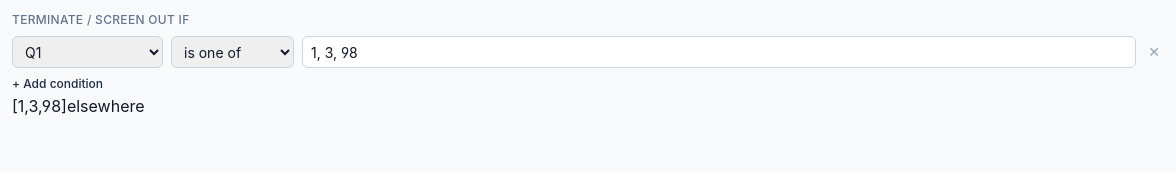
Test: codes box › lets a code be deleted without losing the ones around it
Click the field named "condition values": (719, 52) [302,36,1136,68]
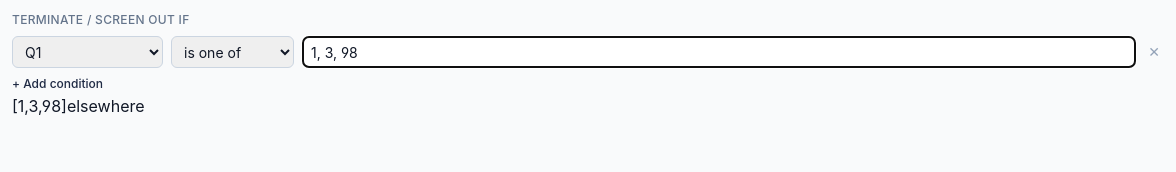
Press End Backspace Backspace
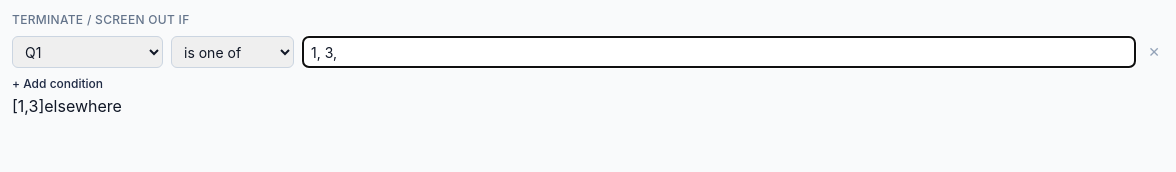
Expected: the field named "condition values" holds "1, 3, ", [302,36,1136,68]
Expected: the text with test id "parsed" reads "[1,3]", [12,96,44,116]
